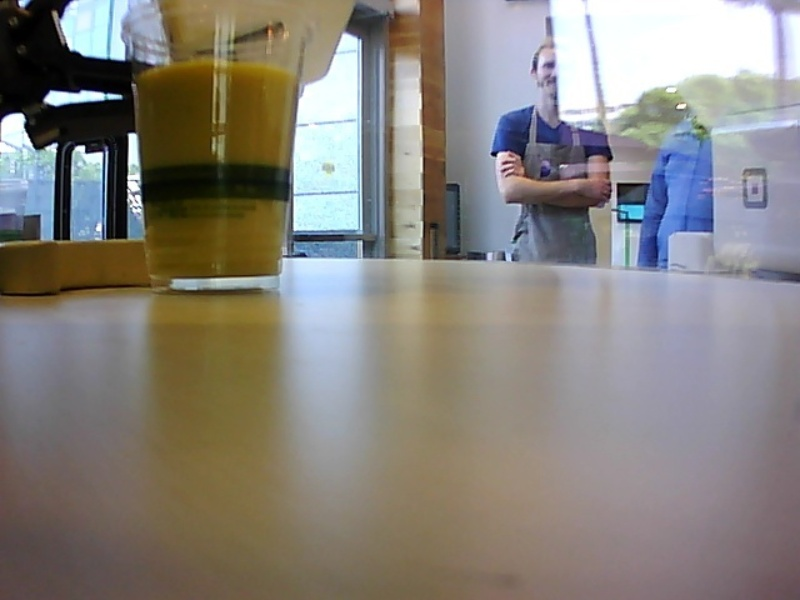cup: (117, 3, 315, 294)
limit: (133, 53, 301, 87)
